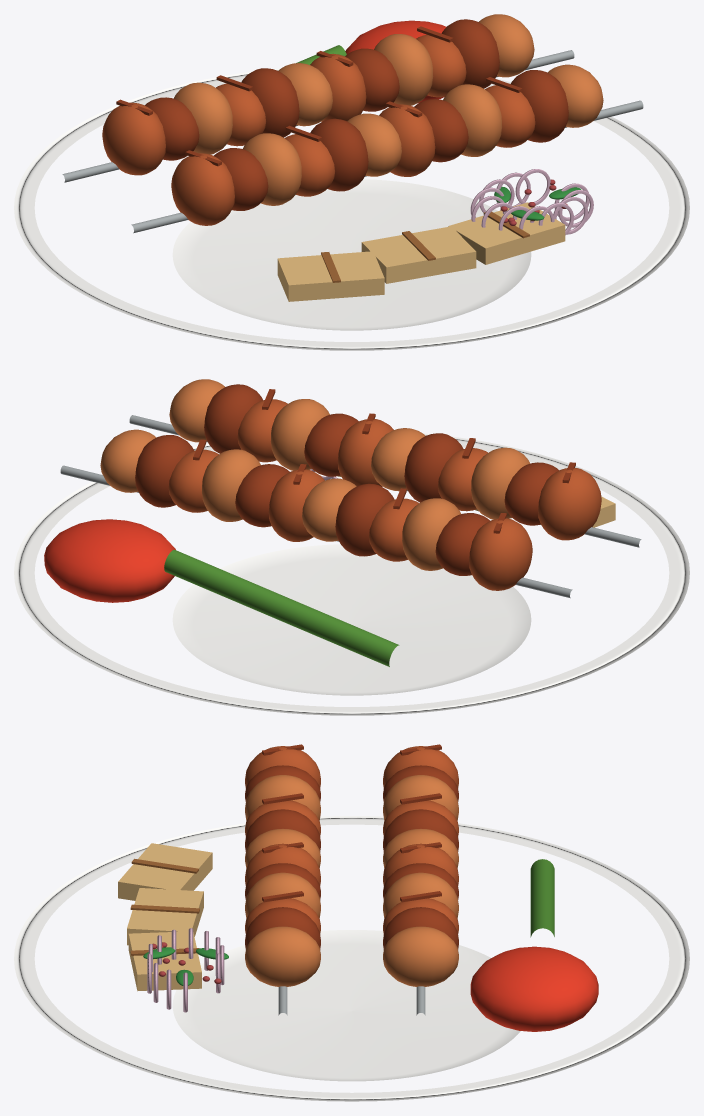
The model's file is turkish-adana-kebab-plated.glb.
3 renders of one model, top to bottom at view 1: azimuth 30°, elevation 25°; view 2: azimuth 150°, elevation 25°; view 3: azimuth 270°, elevation 25°, orthographic.
Visible parts, largest first — view 1: porcelain-plate, pide wedge 1, pide wedge 2, Adana kebab 1 ridge 1, Adana kebab 2 ridge 1, pide wedge 3, Adana kebab 2 ridge 3, Adana kebab 2 ridge 9, Adana kebab 1 ridge 3, Adana kebab 1 ridge 9, Adana kebab 2 ridge 5, Adana kebab 2 ridge 11 (+19 smaller); view 2: porcelain-plate, roasted tomato, roasted pepper, Adana kebab 1 ridge 1, Adana kebab 2 ridge 1, Adana kebab 1 ridge 3, Adana kebab 1 ridge 9, Adana kebab 1 ridge 5, Adana kebab 1 ridge 11, Adana kebab 2 ridge 9, Adana kebab 2 ridge 3, Adana kebab 2 ridge 11 (+17 smaller); view 3: porcelain-plate, roasted tomato, Adana kebab 1 ridge 12, Adana kebab 2 ridge 12, pide wedge 1, pide wedge 2, pide wedge 3, roasted pepper, Adana kebab 2 ridge 9, Adana kebab 1 ridge 9, Adana kebab 1 ridge 3, Adana kebab 2 ridge 3 (+18 smaller).
Part boxes in pixels (box(x1,y1,x2,y2)): porcelain-plate: box(14, 68, 689, 350); pide wedge 1: box(277, 251, 384, 301); pide wedge 2: box(361, 226, 476, 283); Adana kebab 1 ridge 1: box(102, 102, 165, 175); Adana kebab 2 ridge 1: box(171, 153, 234, 225); pide wedge 3: box(448, 202, 565, 264); Adana kebab 2 ridge 3: box(243, 133, 301, 205); Adana kebab 2 ridge 9: box(443, 84, 501, 156); Adana kebab 1 ridge 3: box(173, 82, 232, 154); Adana kebab 1 ridge 9: box(374, 34, 433, 105); Adana kebab 2 ridge 5: box(310, 118, 368, 191); Adana kebab 2 ridge 11: box(511, 70, 568, 142); porcelain-plate: box(14, 433, 689, 715); roasted tomato: box(44, 519, 175, 602); roasted pepper: box(164, 549, 399, 666); Adana kebab 1 ridge 1: box(469, 518, 532, 590); Adana kebab 2 ridge 1: box(538, 468, 601, 540); Adana kebab 1 ridge 3: box(402, 498, 460, 570); Adana kebab 1 ridge 9: box(202, 449, 260, 521); Adana kebab 1 ridge 5: box(335, 483, 394, 556); Adana kebab 1 ridge 11: box(135, 435, 194, 507); Adana kebab 2 ridge 9: box(270, 399, 329, 470); Adana kebab 2 ridge 3: box(471, 447, 530, 519); Adana kebab 2 ridge 11: box(204, 384, 262, 453); porcelain-plate: box(14, 816, 689, 1101); roasted tomato: box(470, 946, 598, 1031); Adana kebab 1 ridge 12: box(383, 926, 458, 986); Adana kebab 2 ridge 12: box(245, 926, 320, 986); pide wedge 1: box(118, 843, 212, 900); pide wedge 2: box(127, 888, 203, 945); pide wedge 3: box(128, 931, 201, 991); roasted pepper: box(530, 859, 554, 937); Adana kebab 2 ridge 9: box(245, 872, 320, 917); Adana kebab 1 ridge 9: box(383, 872, 458, 917); Adana kebab 1 ridge 3: box(383, 775, 458, 820); Adana kebab 2 ridge 3: box(245, 775, 320, 820).
Bounding box in the file's own units: 0.3332 × 0.098 × 0.3332.
